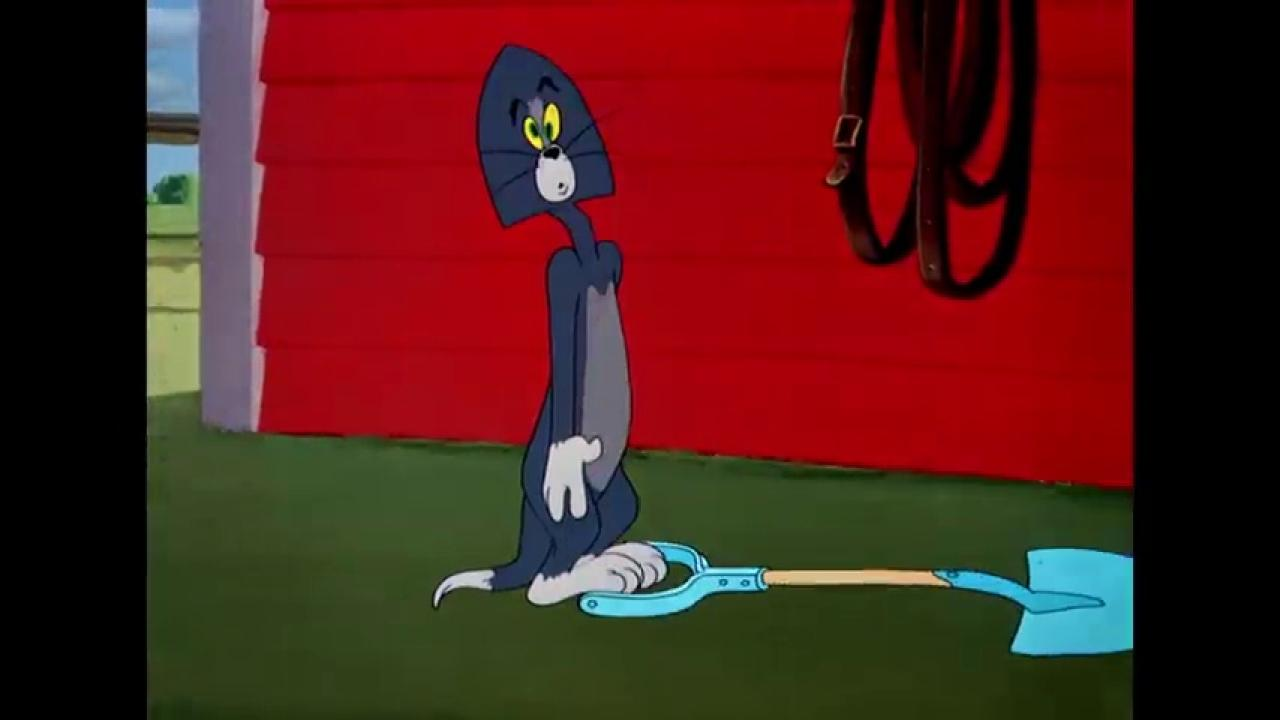Tom: (430, 41, 670, 607)
